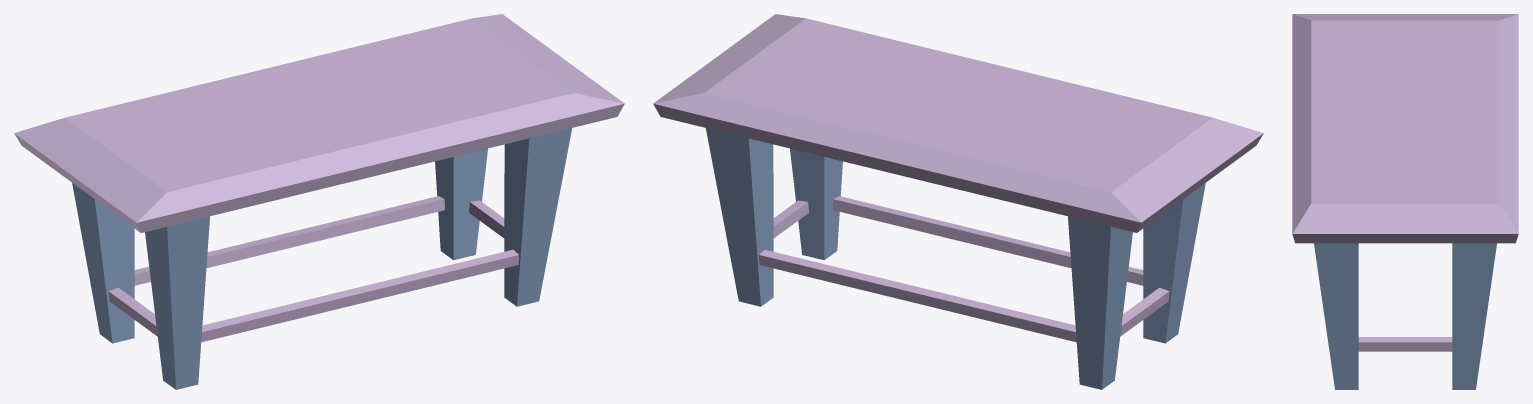
File: PianoBench.fbx
The picture shows the model from 3 angles, left to right: view 1: azimuth 30°, elevation 25°; view 2: azimuth 150°, elevation 25°; view 3: azimuth 270°, elevation 25°; orthographic projection. The views are drawn at different scales.
Visible parts, largest first — view 1: polySurface3; view 2: polySurface3; view 3: polySurface3.
Part boxes in pixels (x1,y1,x2,y2): polySurface3: (14, 14, 624, 389); polySurface3: (653, 14, 1263, 389); polySurface3: (1292, 14, 1518, 389).
Size of the model in its own units: 7.17 by 2.98 by 3.11.
